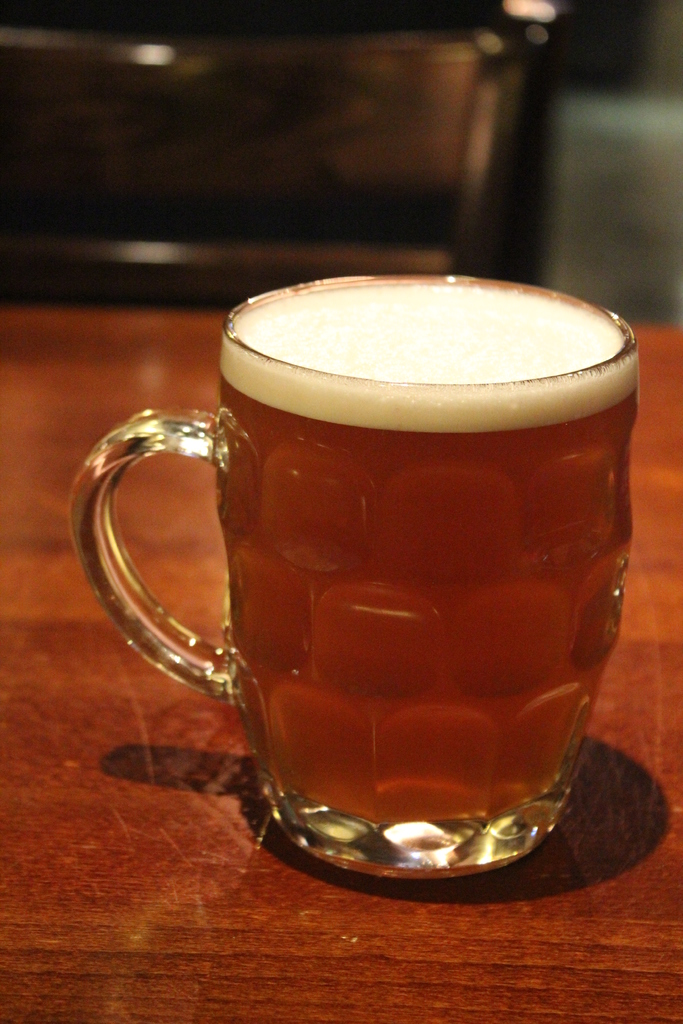Beer: (68, 275, 639, 879)
